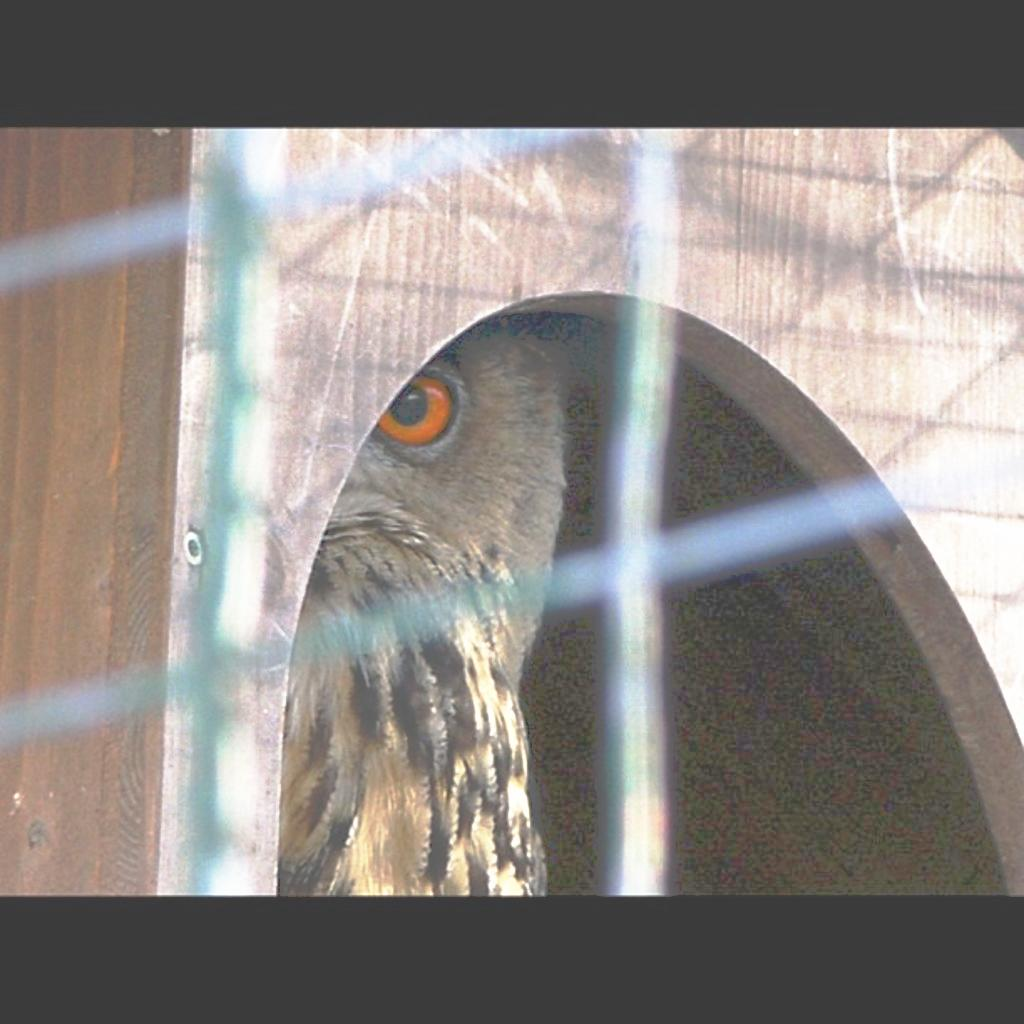Owl: (281, 314, 572, 906)
